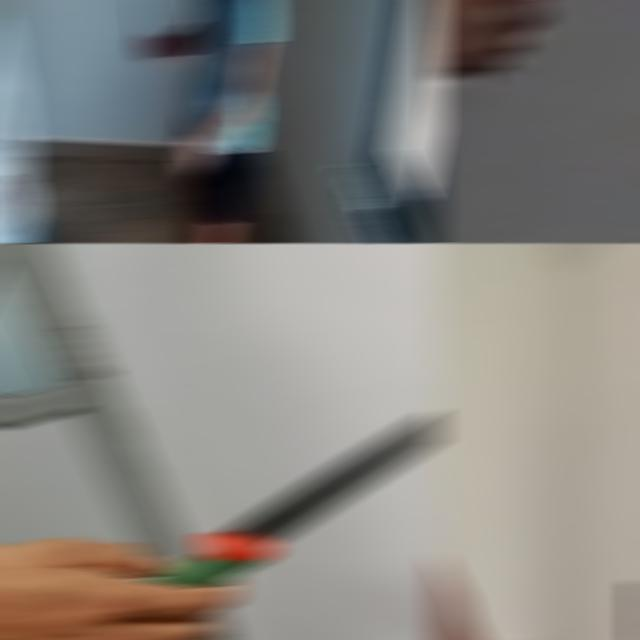Knife: (147, 409, 442, 589), (132, 0, 158, 40)
Knife_Handle: (438, 0, 612, 86), (134, 0, 175, 59)
